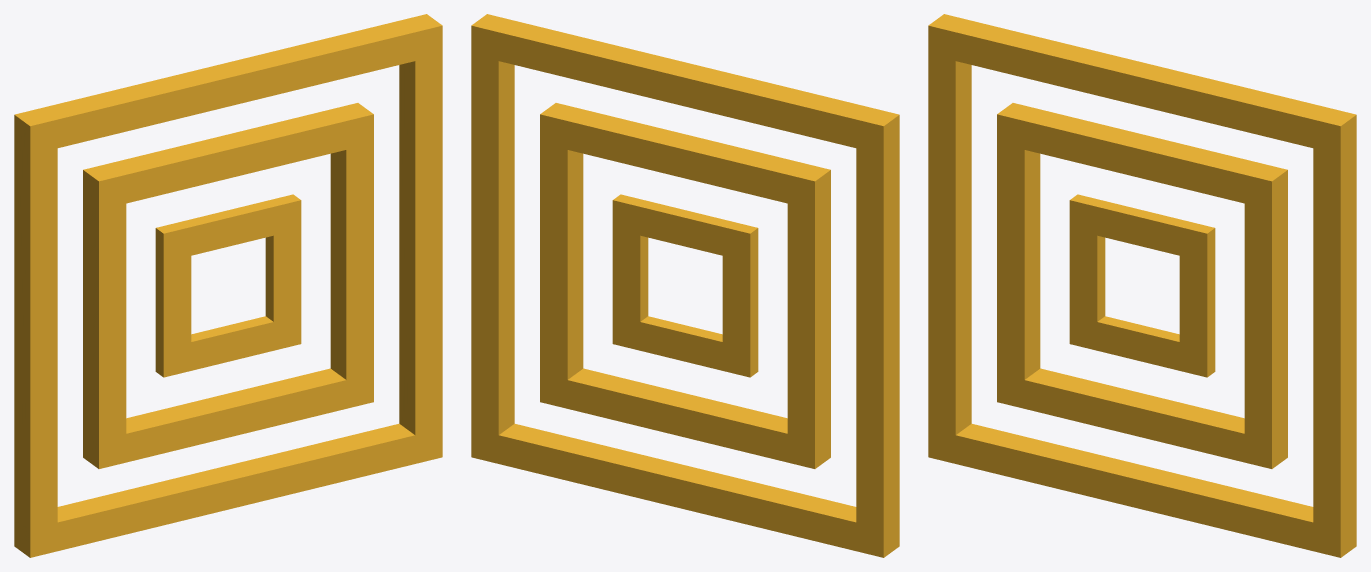
Rendered from ConfusionMoveA.fbx.
3 views of the same model, side by side, from view 1: azimuth 30°, elevation 25°; view 2: azimuth 150°, elevation 25°; view 3: azimuth 330°, elevation 25° (orthographic).
Visible parts, largest first — view 1: Cube.011, Cube.002, Cube.006; view 2: Cube.011, Cube.002, Cube.006; view 3: Cube.011, Cube.002, Cube.006.
Boxes of the visible parts, x1,y1,x2,y2 form: Cube.011: (14,14,442,557); Cube.002: (83,103,373,468); Cube.006: (155,194,301,377); Cube.011: (471,14,899,557); Cube.002: (540,103,830,468); Cube.006: (612,194,758,377); Cube.011: (928,14,1356,557); Cube.002: (997,103,1287,468); Cube.006: (1069,194,1215,377).
Bounding box in the file's own units: 180 × 180 × 12.
